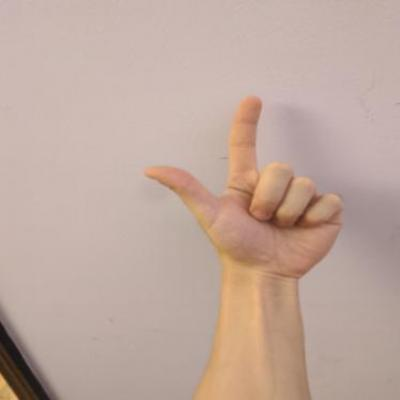hand: (133, 90, 351, 290)
